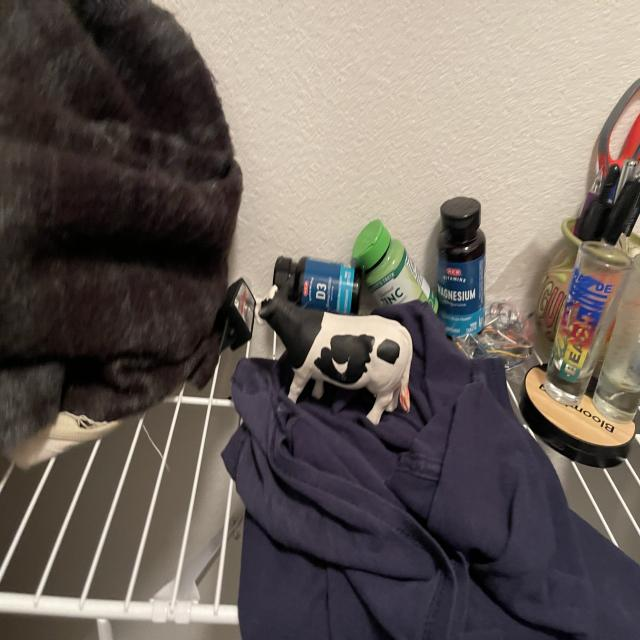cow: (239, 287, 430, 432), (272, 297, 275, 301)
